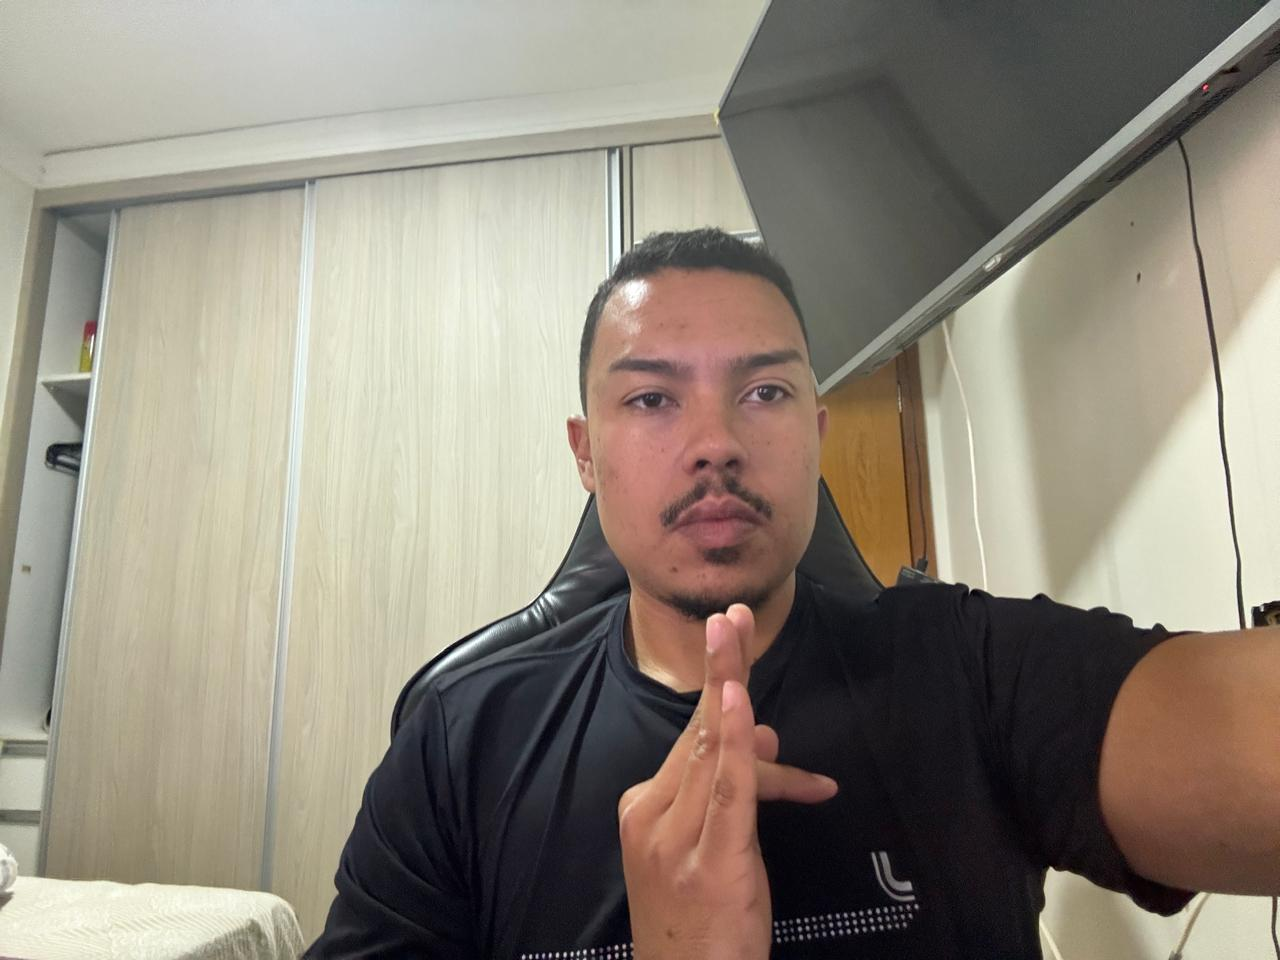f: (602, 597, 847, 960)
